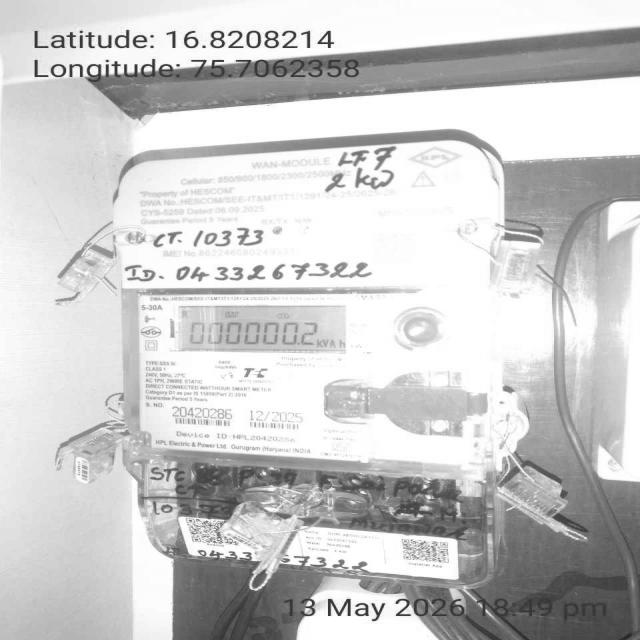meter: (120, 142, 513, 471)
